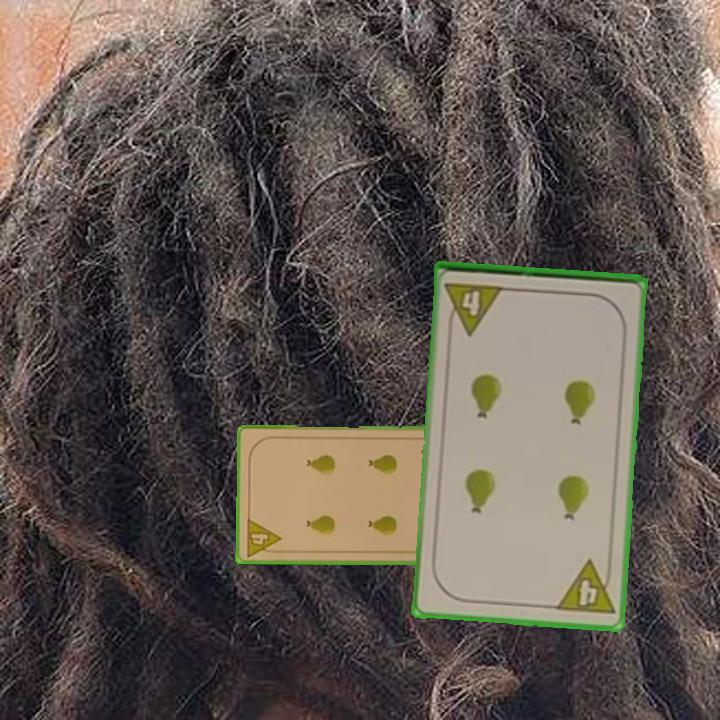4p: (552, 557, 618, 618), (441, 279, 507, 337), (242, 515, 283, 559)
